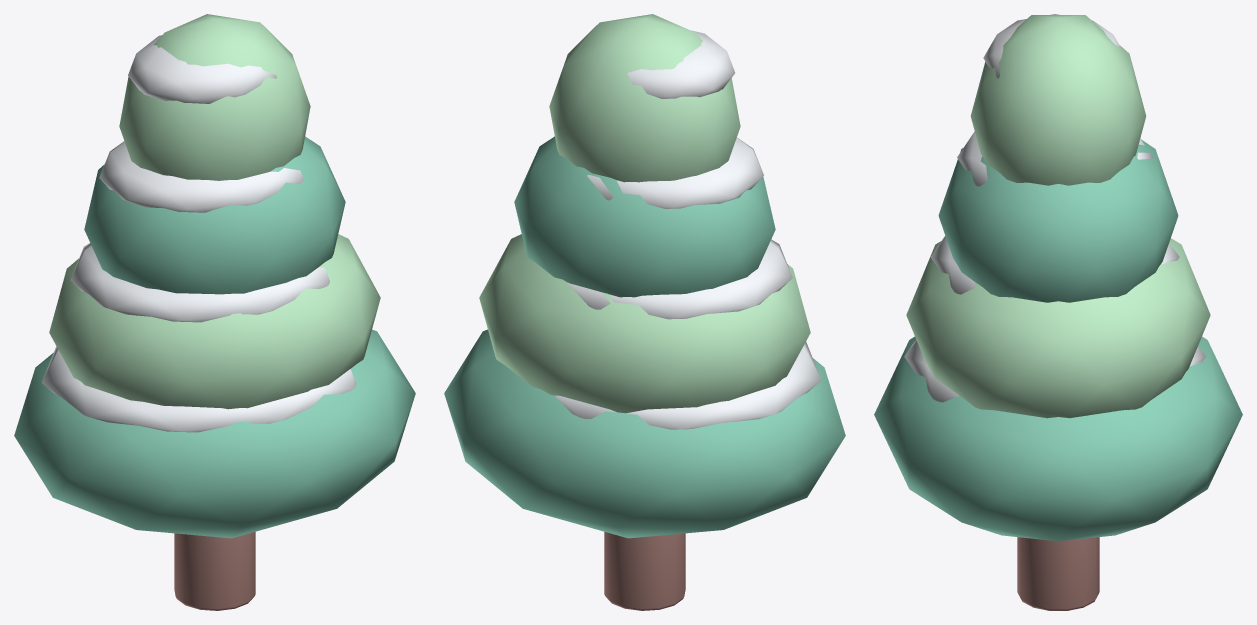
Rendered from winter_tree_0.glb.
3 renders of one model, left to right at view 1: azimuth 30°, elevation 25°; view 2: azimuth 150°, elevation 25°; view 3: azimuth 270°, elevation 25°, orthographic.
Visible parts, largest first — view 1: NeedleCrown_0, NeedleCrown_1, NeedleCrown_2, NeedleCrown_3, SnowCap_0.001, SnowCap_1.001, SnowCap_2.001, Trunk, SnowCap_3.001; view 2: NeedleCrown_0, NeedleCrown_1, NeedleCrown_2, NeedleCrown_3, Trunk, SnowCap_0.001, SnowCap_1.001, SnowCap_2.001, SnowCap_3.001; view 3: NeedleCrown_0, NeedleCrown_1, NeedleCrown_2, NeedleCrown_3, Trunk, SnowCap_1.001, SnowCap_0.001, SnowCap_2.001, SnowCap_3.001.
Boxes of the visible parts, bbox=[...] form: NeedleCrown_0: bbox=[14, 329, 415, 538]; NeedleCrown_1: bbox=[49, 234, 380, 409]; NeedleCrown_2: bbox=[84, 136, 345, 294]; NeedleCrown_3: bbox=[119, 14, 310, 180]; SnowCap_0.001: bbox=[41, 346, 356, 432]; SnowCap_1.001: bbox=[70, 243, 329, 322]; SnowCap_2.001: bbox=[99, 141, 303, 212]; Trunk: bbox=[174, 532, 255, 610]; SnowCap_3.001: bbox=[128, 35, 276, 103]; NeedleCrown_0: bbox=[444, 329, 845, 538]; NeedleCrown_1: bbox=[479, 234, 810, 413]; NeedleCrown_2: bbox=[514, 136, 775, 297]; NeedleCrown_3: bbox=[549, 14, 740, 182]; Trunk: bbox=[604, 532, 685, 610]; SnowCap_0.001: bbox=[554, 342, 821, 429]; SnowCap_1.001: bbox=[567, 239, 792, 319]; SnowCap_2.001: bbox=[587, 137, 763, 208]; SnowCap_3.001: bbox=[627, 30, 735, 98]; NeedleCrown_0: bbox=[874, 336, 1242, 541]; NeedleCrown_1: bbox=[906, 238, 1210, 418]; NeedleCrown_2: bbox=[938, 139, 1178, 302]; NeedleCrown_3: bbox=[970, 15, 1146, 185]; Trunk: bbox=[1017, 537, 1099, 610]; SnowCap_1.001: bbox=[931, 235, 1179, 294]; SnowCap_0.001: bbox=[904, 340, 1205, 402]; SnowCap_2.001: bbox=[957, 131, 1153, 186]; SnowCap_3.001: bbox=[983, 14, 1120, 78].
Size of the model in its own units: 5.99 by 9.57 by 5.54.
